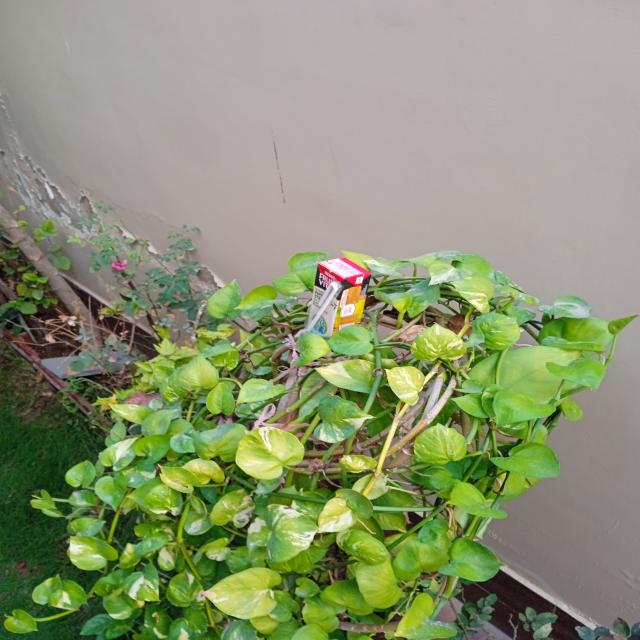Plastic: (304, 254, 376, 343)
